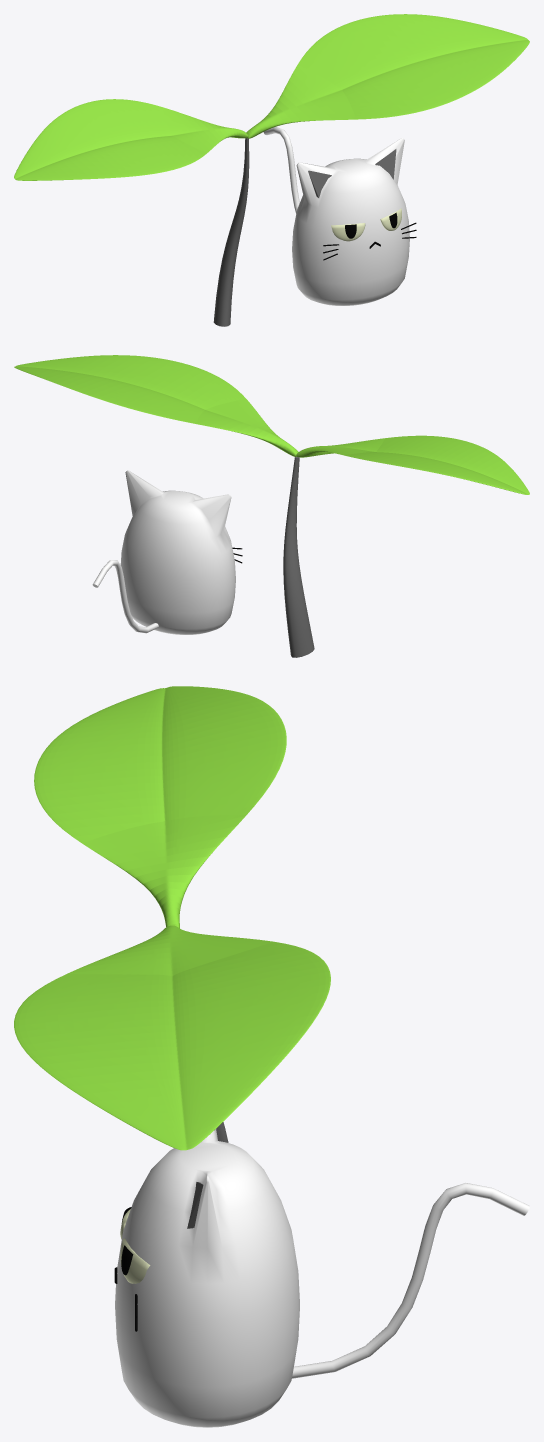
The model's file is cat_leaf.glb.
3 views of the same model, one above another, from view 1: azimuth 30°, elevation 25°; view 2: azimuth 150°, elevation 25°; view 3: azimuth 270°, elevation 25° (orthographic). The views are drawn at different scales.
Parts seen in each view (by area): view 1: 平面, 球, ベジエカーブ.001, ベジエカーブ, 円錐, 球.001; view 2: 平面, 球, ベジエカーブ.001, ベジエカーブ; view 3: 平面, 球, ベジエカーブ.
Part boxes in pixels (x1=…): 平面: x1=14, y1=14, x2=529, y2=180; 球: x1=292, y1=138, x2=409, y2=305; ベジエカーブ.001: x1=213, y1=138, x2=249, y2=326; ベジエカーブ: x1=263, y1=127, x2=299, y2=213; 円錐: x1=308, y1=149, x2=396, y2=197; 球.001: x1=331, y1=208, x2=401, y2=241; 平面: x1=14, y1=355, x2=529, y2=494; 球: x1=120, y1=470, x2=235, y2=634; ベジエカーブ.001: x1=283, y1=457, x2=314, y2=657; ベジエカーブ: x1=92, y1=560, x2=158, y2=633; 平面: x1=14, y1=686, x2=330, y2=1150; 球: x1=115, y1=1129, x2=299, y2=1427; ベジエカーブ: x1=292, y1=1183, x2=529, y2=1378.
Size of the model in its own units: 9.66 by 4.28 by 4.41.
